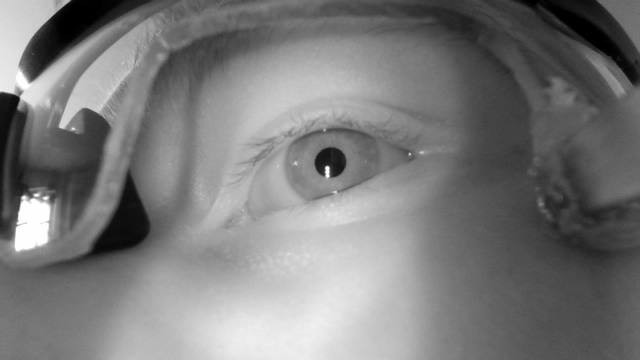pupil: (314, 146, 347, 179)
